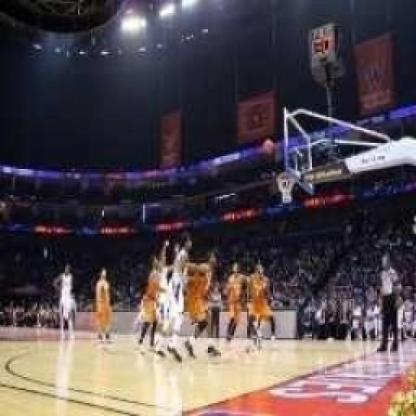basketball: (262, 137, 276, 155)
